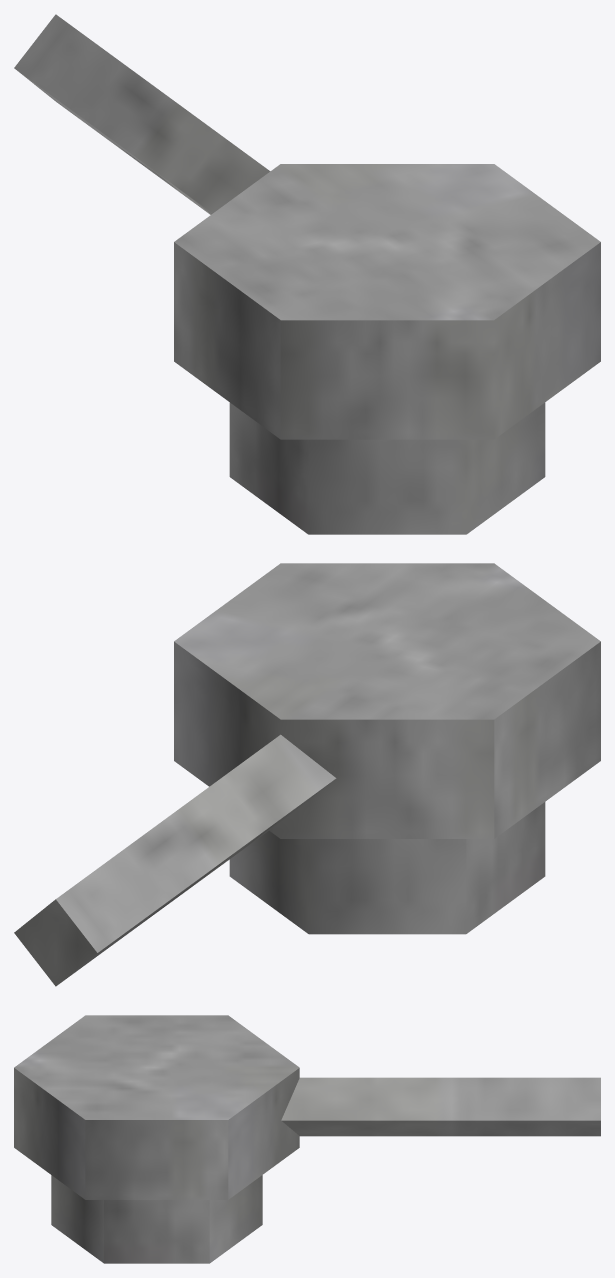
File: Manija_Washbasin_05.glb
3 views of the same model, one above another, from view 1: azimuth 30°, elevation 25°; view 2: azimuth 150°, elevation 25°; view 3: azimuth 270°, elevation 25° (orthographic). The views are drawn at different scales.
Parts seen in each view (by area): view 1: Manija_Washbasin_05; view 2: Manija_Washbasin_05; view 3: Manija_Washbasin_05.
Boxes of the visible parts, <box> form: Manija_Washbasin_05: <box>14,14,600,534</box>; Manija_Washbasin_05: <box>14,563,600,986</box>; Manija_Washbasin_05: <box>14,1015,600,1263</box>.
Bounding box in the file's own units: 0.04 × 0.0281 × 0.095.
Materials: 1 (1 with a texture image).
